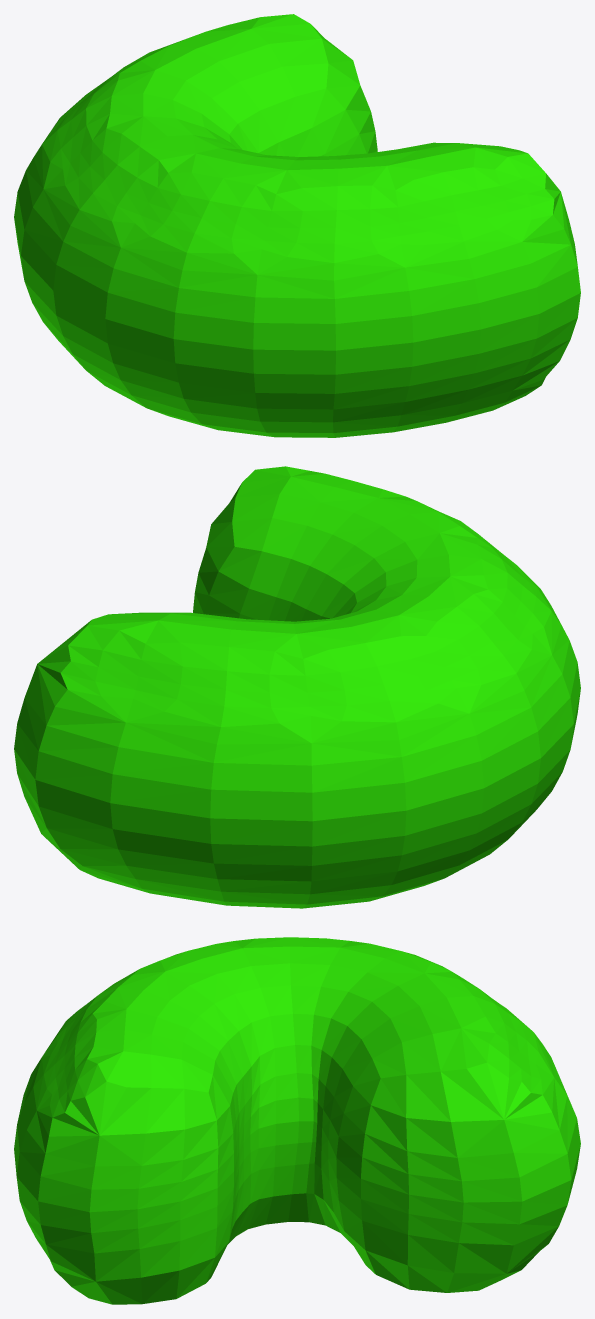
3 views of the same model, one above another, from view 1: azimuth 30°, elevation 25°; view 2: azimuth 150°, elevation 25°; view 3: azimuth 270°, elevation 25° (orthographic). The views are drawn at different scales.
Bounding box in the file's own units: 0.7821 × 0.4665 × 0.9627.
